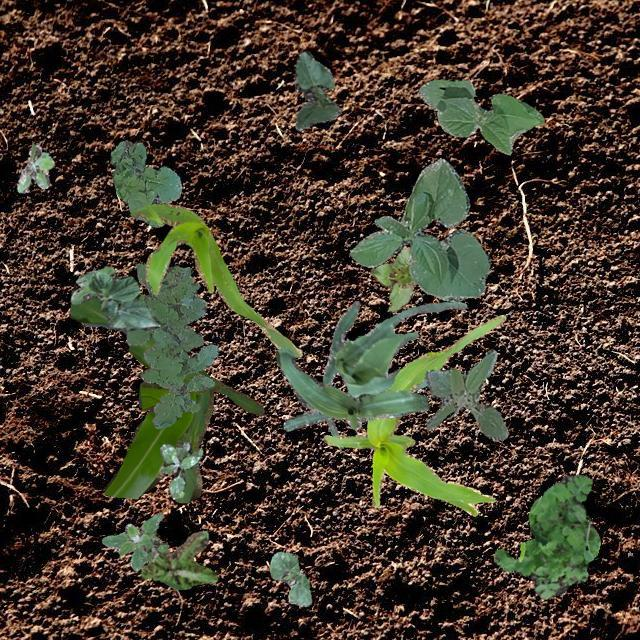crop: (69, 296, 262, 502), (322, 314, 504, 514), (130, 202, 302, 356), (348, 157, 489, 300), (322, 300, 466, 434), (274, 348, 428, 430), (418, 78, 542, 154), (70, 264, 160, 330), (294, 49, 339, 130), (368, 246, 414, 312), (270, 552, 310, 606)
weed: (125, 262, 218, 428), (492, 473, 600, 598), (423, 348, 508, 439), (110, 140, 180, 226), (140, 530, 217, 588), (100, 512, 168, 570), (158, 440, 202, 498), (16, 142, 54, 192)
